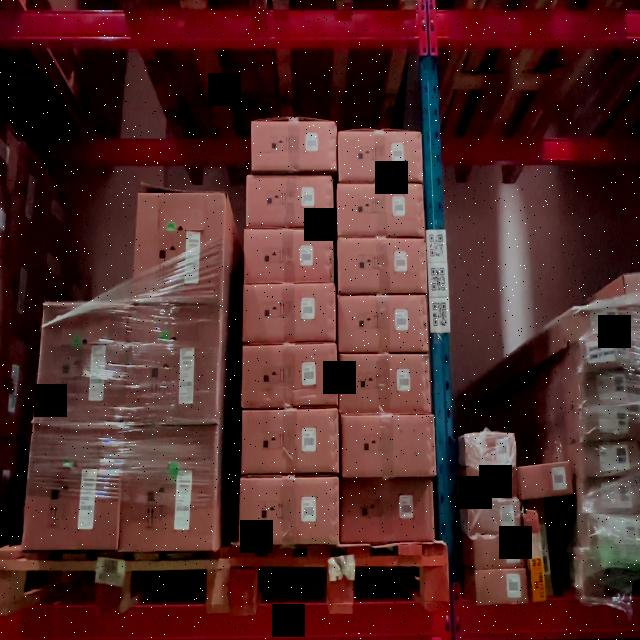box: (132, 308, 218, 424), (44, 308, 126, 426), (36, 427, 116, 546), (130, 433, 212, 549), (140, 197, 222, 295), (242, 480, 336, 540), (241, 415, 337, 473), (245, 283, 334, 343), (342, 421, 434, 475), (243, 349, 335, 402), (341, 356, 429, 410), (343, 486, 433, 536), (342, 300, 424, 353), (245, 230, 331, 280), (248, 175, 330, 227), (341, 242, 425, 290), (338, 190, 422, 234), (252, 124, 334, 168), (340, 138, 420, 179), (522, 466, 570, 494), (470, 435, 516, 463), (469, 470, 514, 498), (478, 571, 523, 599), (476, 540, 523, 566), (530, 516, 544, 600), (474, 507, 520, 531)
